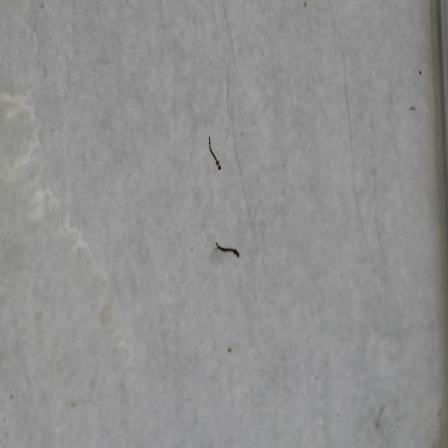Jentik-Nyamuk: (204, 134, 225, 175), (214, 238, 242, 259)
